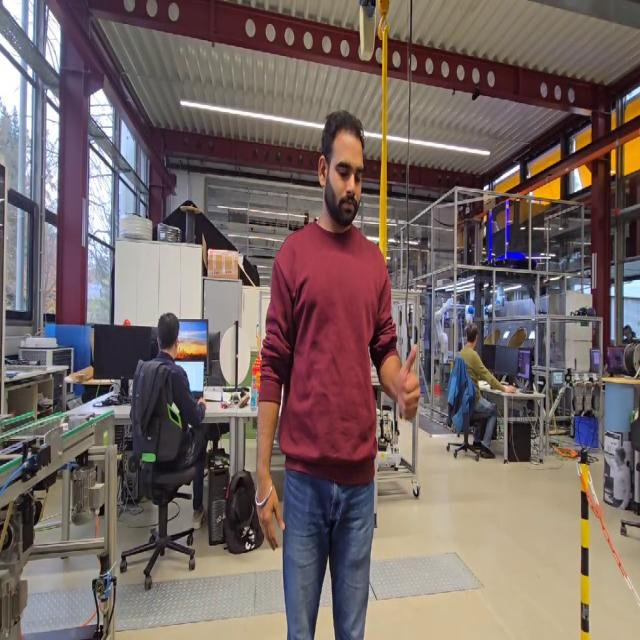thumbs_up: (392, 338, 424, 427)
